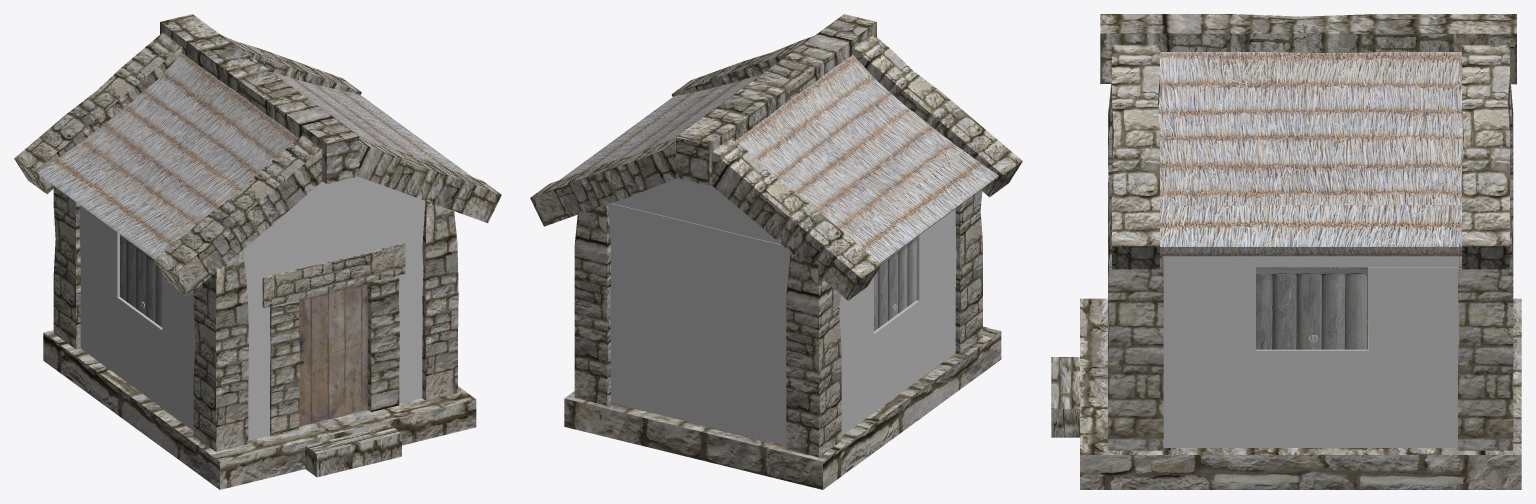
Rendered from CasaMedievalC.fbx.
3 renders of one model, left to right at view 1: azimuth 30°, elevation 25°; view 2: azimuth 150°, elevation 25°; view 3: azimuth 270°, elevation 25°, orthographic. The views are drawn at different scales.
Visible parts, largest first — view 1: Cube; view 2: Cube; view 3: Cube.
Boxes of the visible parts, x1,y1,x2,y2 form: Cube: (14, 14, 501, 489); Cube: (530, 14, 1022, 489); Cube: (1051, 14, 1521, 489).
Size of the model in its own units: 851 by 771 by 843.
